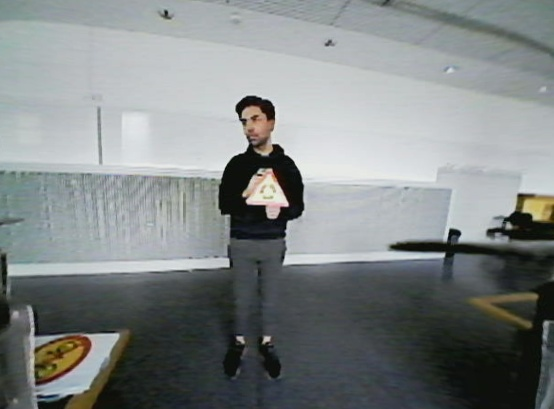roundabout_warning: (243, 168, 291, 210)
